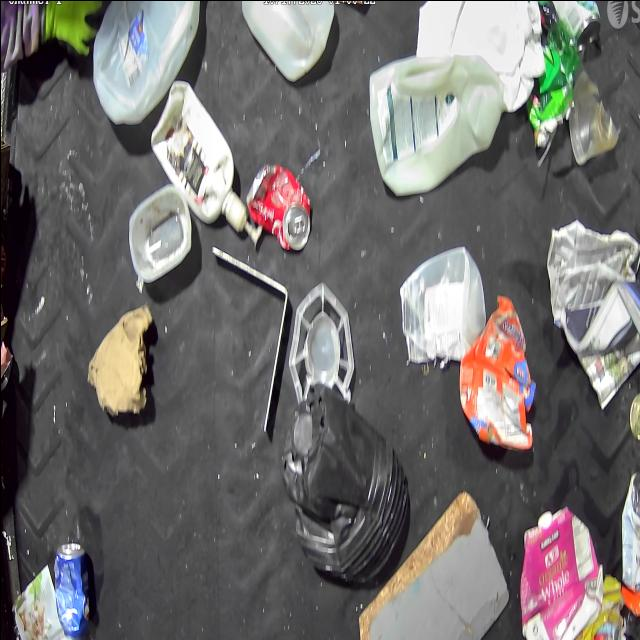can: (246, 164, 310, 249), (50, 537, 89, 639), (543, 0, 601, 48)
milk_jug: (369, 56, 504, 196), (91, 0, 204, 126), (237, 0, 334, 83)
non_white_jug: (518, 503, 602, 640)
